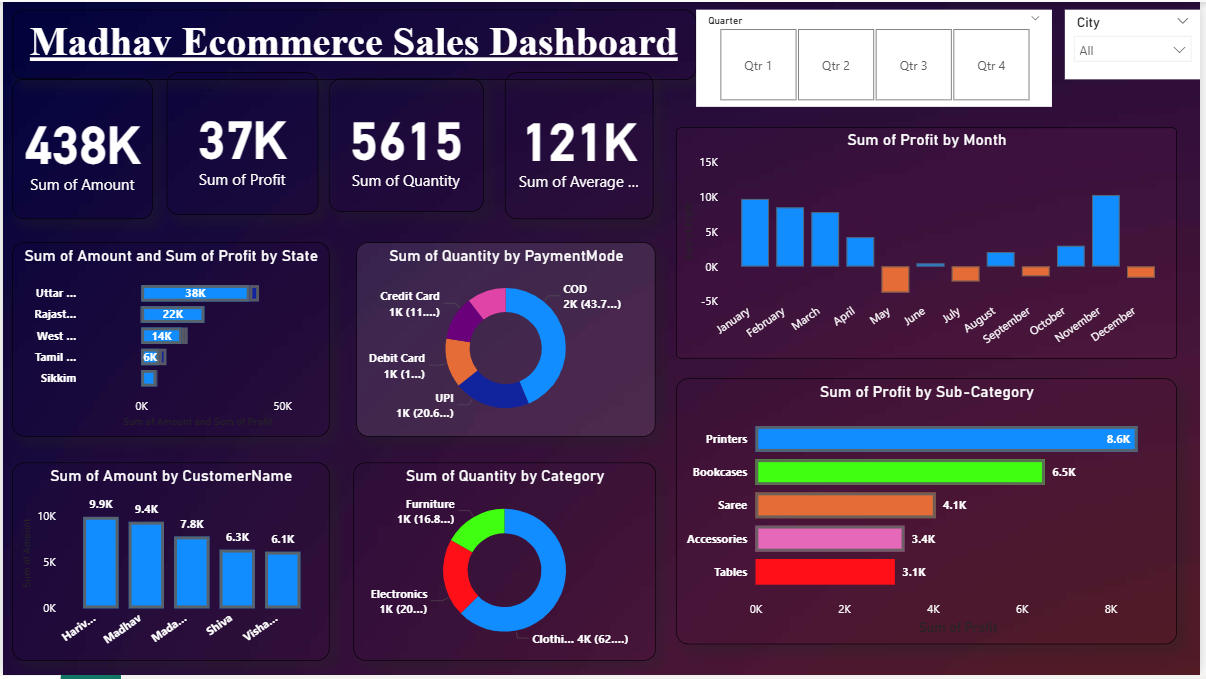

The page's visual inventory and layout, read from the dashboard file:
{"tool":"powerbi","page":{"name":"Page 1","canvas":[1280,720],"ordinal":0},"visuals":[{"type":"textbox","box":[9.8,8.2,731.1,75.2],"z":0},{"type":"clusteredColumnChart","fields":{"Category":["Orders.Order Date.Variation.Date Hierarchy.Month"],"Y":["Details.Profit"]},"box":[719.4,133.3,535.2,247],"z":1000},{"type":"barChart","fields":{"Category":["Details.Sub-Category"],"Y":["Details.Profit"]},"box":[719.4,401.9,535.2,284.2],"z":2000},{"type":"donutChart","fields":{"Category":["Details.Category"],"Y":["Details.Quantity"]},"box":[374.4,492,323.5,211.7],"z":3000},{"type":"donutChart","fields":{"Category":["Details.PaymentMode"],"Y":["Details.Quantity"]},"box":[378.3,256.8,319.5,207.8],"z":4000},{"type":"card","fields":{"Values":["Details.Amount"]},"box":[9.8,81.8,150.5,150.5],"z":5000},{"type":"card","fields":{"Values":["Details.Quantity"]},"box":[348.4,81.8,165.2,142.3],"z":6000},{"type":"card","fields":{"Values":["Details.Profit"]},"box":[175,75.2,161.9,152.1],"z":7000},{"type":"card","fields":{"Values":["Details.Average Order Value"]},"box":[536.4,75.2,158.6,157],"z":8000},{"type":"barChart","fields":{"Category":["Orders.State"],"Y":["Details.Amount","Details.Profit"]},"box":[9.8,256.8,339.1,207.8],"z":9000},{"type":"columnChart","fields":{"Category":["Orders.CustomerName"],"Y":["Details.Amount"]},"box":[10,492,339,212],"z":10000},{"type":"slicer","fields":{"Values":["Orders.Order Date.Variation.Date Hierarchy.Quarter"]},"box":[741,7.8,380.3,103.9],"z":11000},{"type":"slicer","fields":{"Values":["Orders.City"]},"box":[1135,7.8,145.1,74.5],"z":12000}]}

Visuals, with their boxes in screenshot pixels (x1, y1, x2, y2), scaled from the page's 1280x720 canvas onto the 1206x679 screenshot:
textbox: x1=9, y1=8, x2=698, y2=79
clusteredColumnChart - Orders.Order Date.Variation.Date Hierarchy.Month x Details.Profit: x1=678, y1=126, x2=1182, y2=359
barChart - Details.Sub-Category x Details.Profit: x1=678, y1=379, x2=1182, y2=647
donutChart - Details.Category x Details.Quantity: x1=353, y1=464, x2=658, y2=664
donutChart - Details.PaymentMode x Details.Quantity: x1=356, y1=242, x2=657, y2=438
card - Details.Amount: x1=9, y1=77, x2=151, y2=219
card - Details.Quantity: x1=328, y1=77, x2=484, y2=211
card - Details.Profit: x1=165, y1=71, x2=317, y2=214
card - Details.Average Order Value: x1=505, y1=71, x2=655, y2=219
barChart - Orders.State x Details.Amount: x1=9, y1=242, x2=329, y2=438
columnChart - Orders.CustomerName x Details.Amount: x1=9, y1=464, x2=329, y2=664
slicer - Orders.Order Date.Variation.Date Hierarchy.Quarter: x1=698, y1=7, x2=1056, y2=105
slicer - Orders.City: x1=1069, y1=7, x2=1205, y2=78
